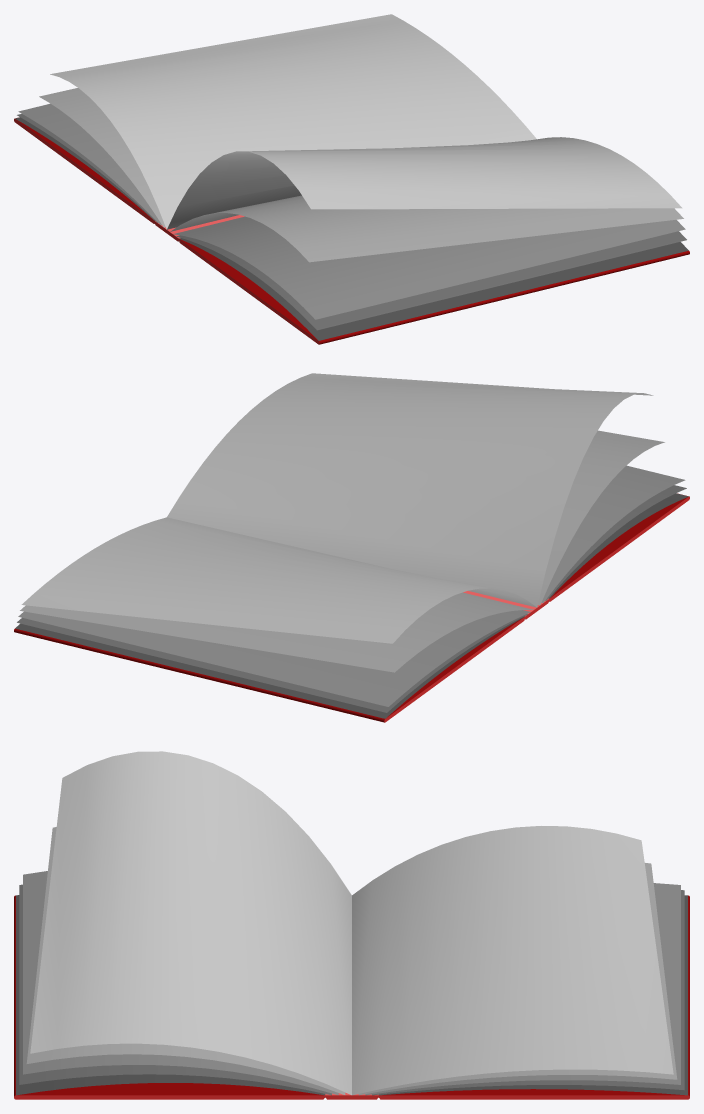
3 views of the same model, one above another, from view 1: azimuth 30°, elevation 25°; view 2: azimuth 150°, elevation 25°; view 3: azimuth 270°, elevation 25° (orthographic). The views are drawn at different scales.
Parts seen in each view (by area): view 1: Mesh1_Model.003; view 2: Mesh1_Model.003; view 3: Mesh1_Model.003.
Boxes of the visible parts, bbox=[...] form: Mesh1_Model.003: bbox=[14, 14, 689, 344]; Mesh1_Model.003: bbox=[14, 373, 689, 722]; Mesh1_Model.003: bbox=[14, 751, 689, 1099].
Bounding box in the file's own units: 0.7 × 0.25 × 1.
